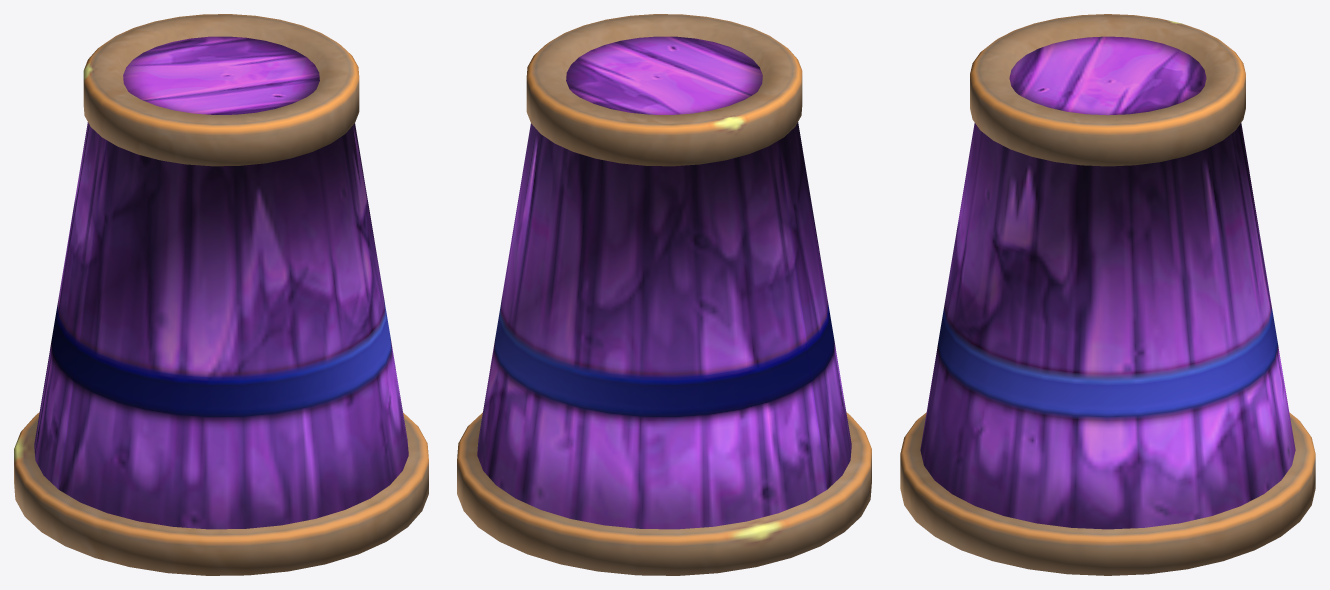
File: Cup_04.glb
3 views of the same model, side by side, from view 1: azimuth 30°, elevation 25°; view 2: azimuth 150°, elevation 25°; view 3: azimuth 270°, elevation 25° (orthographic).
Visible parts, largest first — view 1: Cylinder; view 2: Cylinder; view 3: Cylinder.
Part boxes in pixels (x1,y1,x2,y2): Cylinder: [14, 14, 428, 575]; Cylinder: [457, 14, 871, 575]; Cylinder: [900, 14, 1315, 575].
Bounding box in the file's own units: 2.22 × 2.46 × 2.22.
Materials: 1 (1 with a texture image).
